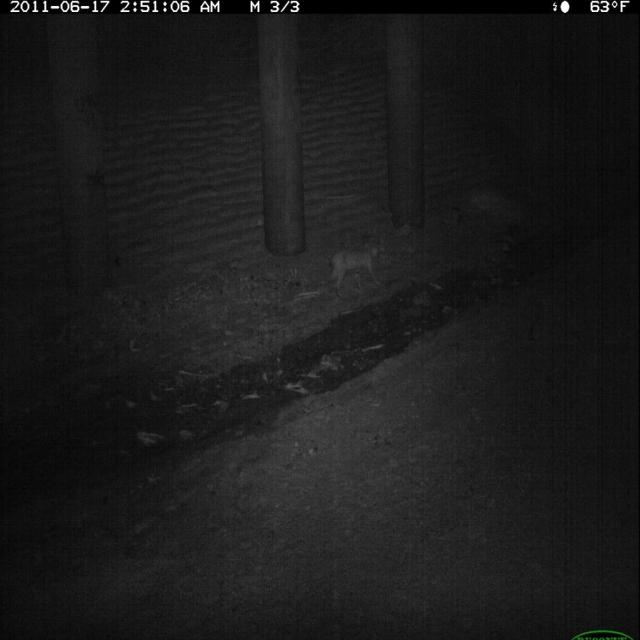bobcat: (322, 238, 386, 303)
